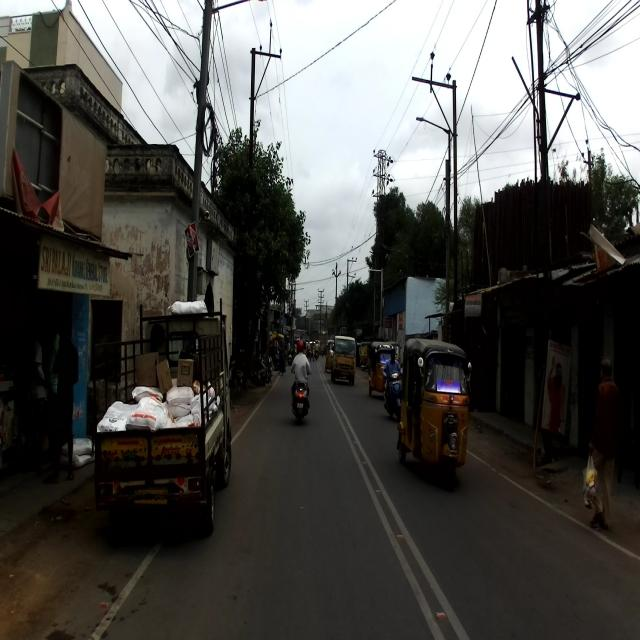autorickshaw: (396, 336, 472, 491)
scooter: (382, 366, 402, 424), (290, 366, 309, 424)
truck: (91, 298, 233, 538), (331, 333, 358, 387)
